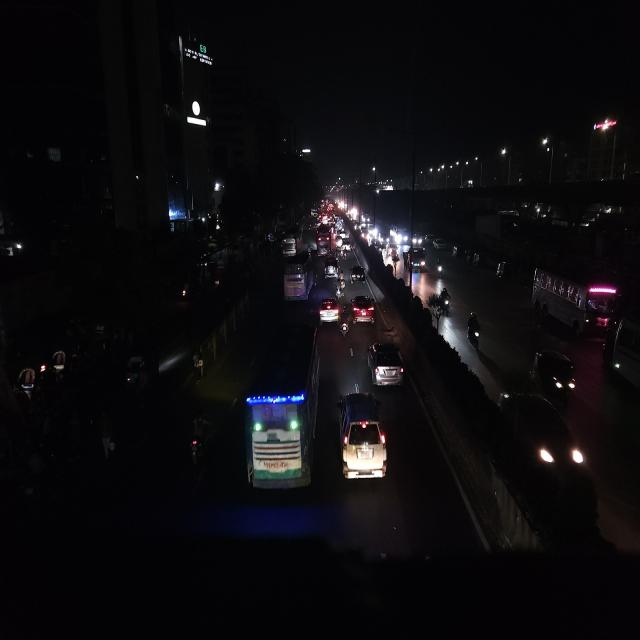bus: (238, 312, 324, 506), (528, 262, 620, 337), (282, 248, 314, 306), (281, 226, 301, 256), (316, 224, 331, 256)
car: (496, 384, 587, 496), (335, 388, 390, 490), (367, 336, 407, 391), (351, 291, 377, 327), (319, 292, 340, 326), (420, 303, 438, 336), (349, 263, 367, 286), (324, 255, 339, 279), (431, 236, 443, 252), (390, 245, 400, 263)
cng: (530, 345, 580, 398)
motorcycle: (184, 406, 214, 476), (466, 309, 482, 353), (439, 286, 453, 317), (339, 316, 349, 341), (336, 275, 346, 296), (436, 255, 444, 280), (451, 244, 459, 262), (342, 246, 348, 262)
pickup_van: (407, 246, 427, 276)
